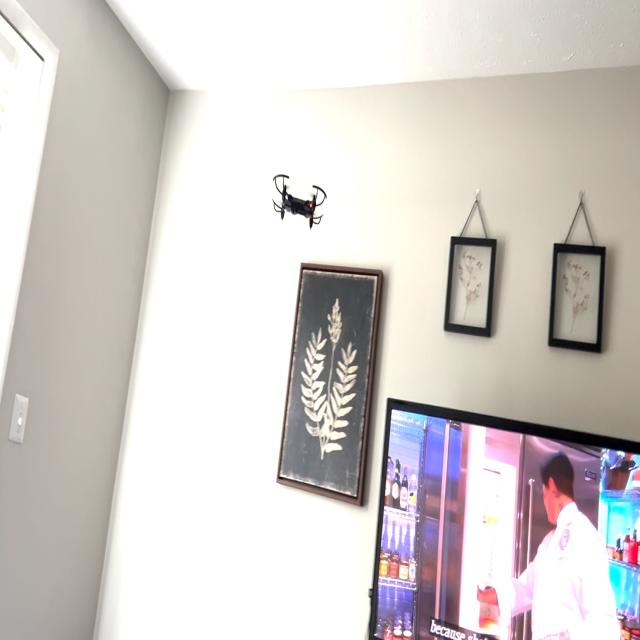drone: (263, 154, 332, 240)
